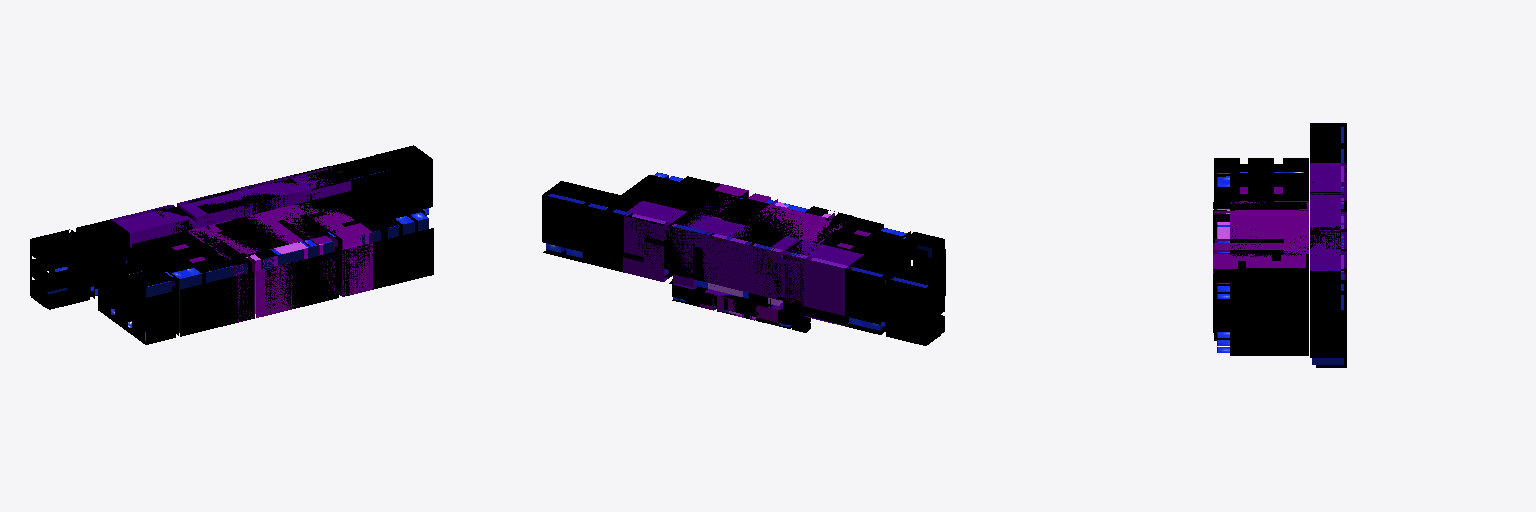
The picture shows the model from 3 angles: view 1: azimuth 30°, elevation 25°; view 2: azimuth 150°, elevation 25°; view 3: azimuth 270°, elevation 25°; orthographic projection.
Visible parts, largest first — view 1: cube; view 2: cube; view 3: cube.
Boxes of the visible parts, x1=… form: cube: x1=30, y1=145, x2=433, y2=344; cube: x1=542, y1=172, x2=945, y2=345; cube: x1=1213, y1=123, x2=1346, y2=367.
Size of the model in its own units: 19 by 3.71 by 5.78.
Materials: 4 (4 with a texture image).